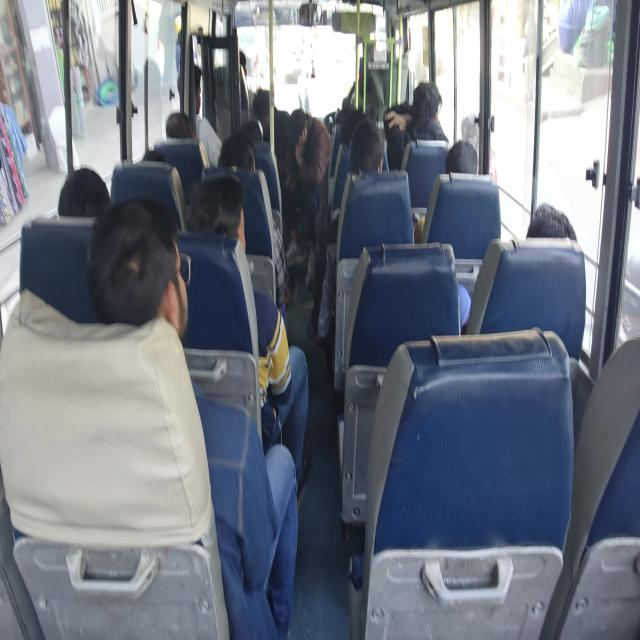person: (99, 213, 179, 350), (510, 187, 573, 251), (184, 184, 243, 249), (350, 116, 397, 168), (447, 139, 487, 199), (63, 165, 104, 214), (168, 117, 210, 150), (252, 92, 276, 141), (413, 94, 437, 138), (132, 146, 160, 183), (232, 134, 255, 172), (237, 45, 261, 79), (293, 113, 308, 144), (242, 116, 260, 140), (181, 76, 195, 106)
